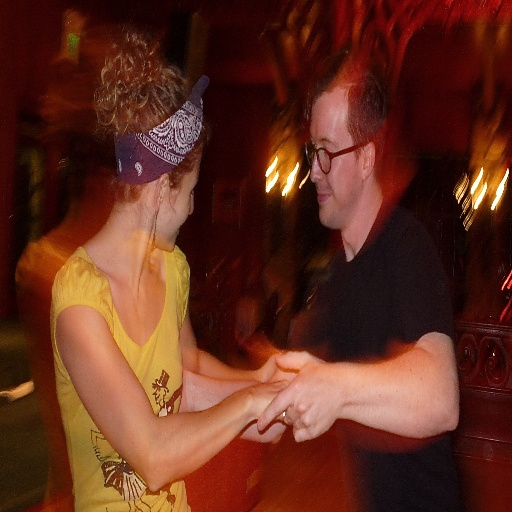hand: (271, 342, 369, 444), (248, 378, 291, 424), (254, 351, 298, 379)
